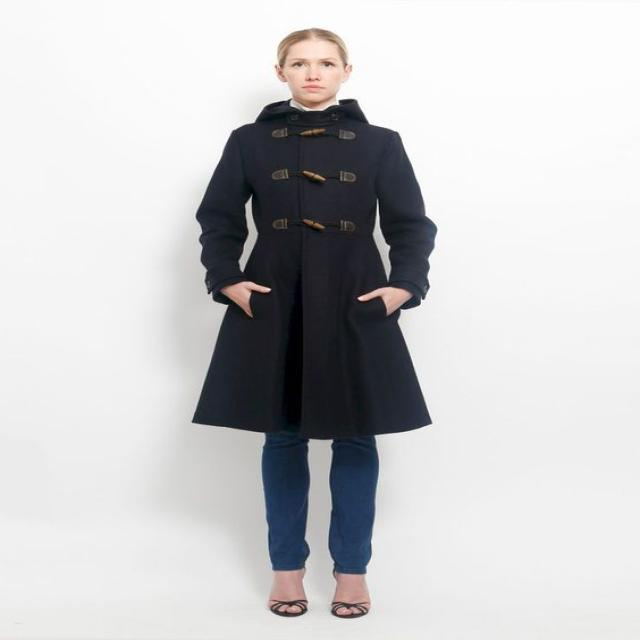coat: (190, 95, 442, 438)
trousers: (260, 426, 381, 577)
